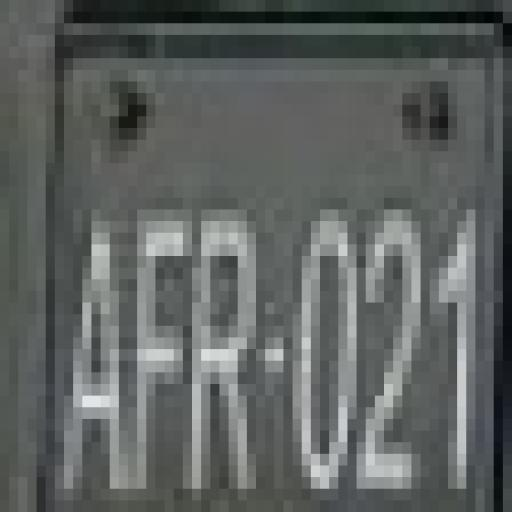0: (290, 206, 359, 500)
1: (434, 205, 480, 502)
2: (365, 204, 426, 498)
A: (63, 196, 131, 495)
F: (137, 197, 192, 476)
R: (198, 198, 256, 493)
